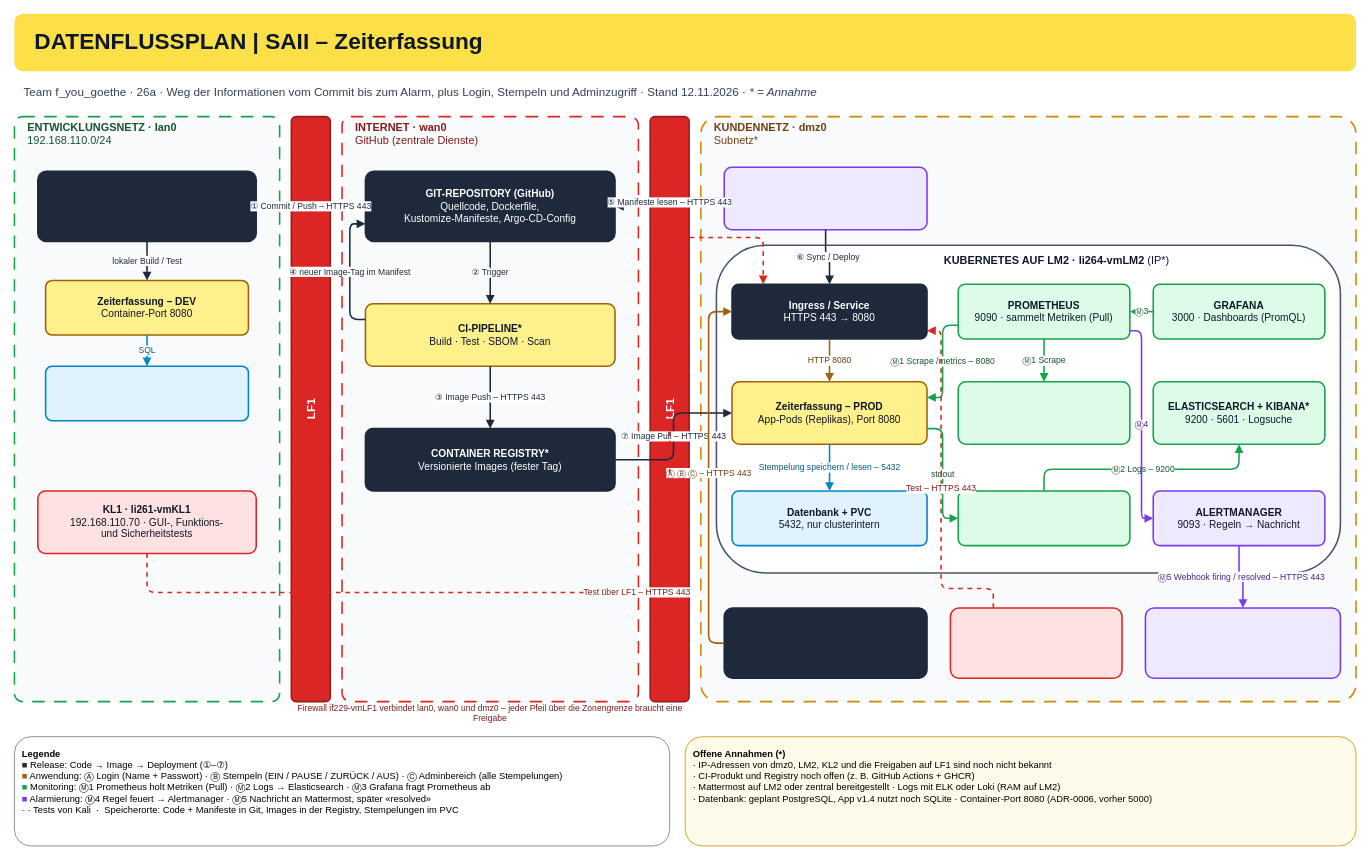
The diagram is 1370 pixels wide and 860 high, and some of its shapes have lost their labels. The centre of each missing label's shape, as x and y in pixels:
"ARGO CD vergleicht Git ↔ Cluster" belongs at (825,198).
"Datenbank – DEV 5432 (nur lokal)" belongs at (146,393).
"Exporter Node-Exporter, kube-state-metrics" belongs at (1043,413).
"KL2 · li261-vmKL2 Tests innerhalb dmz0" belongs at (1035,643).
"LM1 · li264-vmLM1 192.168.110.60 Entwickler: Code, Dockerfile, Manifeste" belongs at (147,206).
"Log-Shipper* liest Container-Logs (stdout)" belongs at (1043,518).
"MATTERMOST* Alarmkanal Betriebsteam" belongs at (1242,643).
"PERSON / ADMIN Browser" belongs at (825,643).
